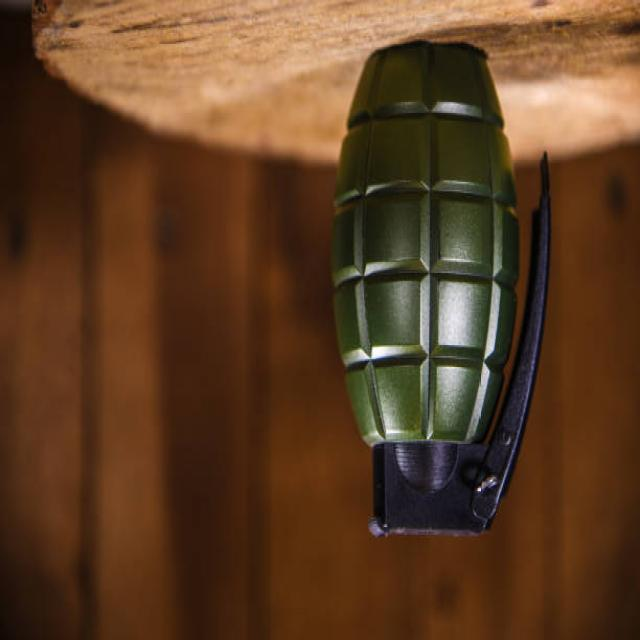grenade: (323, 32, 557, 540)
